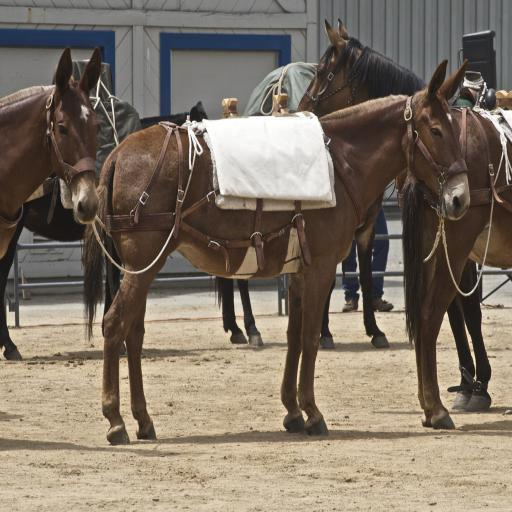horse: (0, 16, 512, 446)
